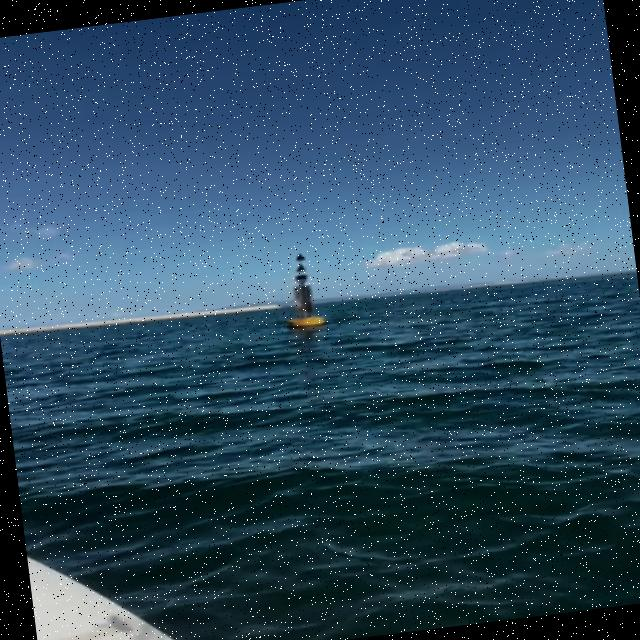marque: (263, 248, 336, 338)
